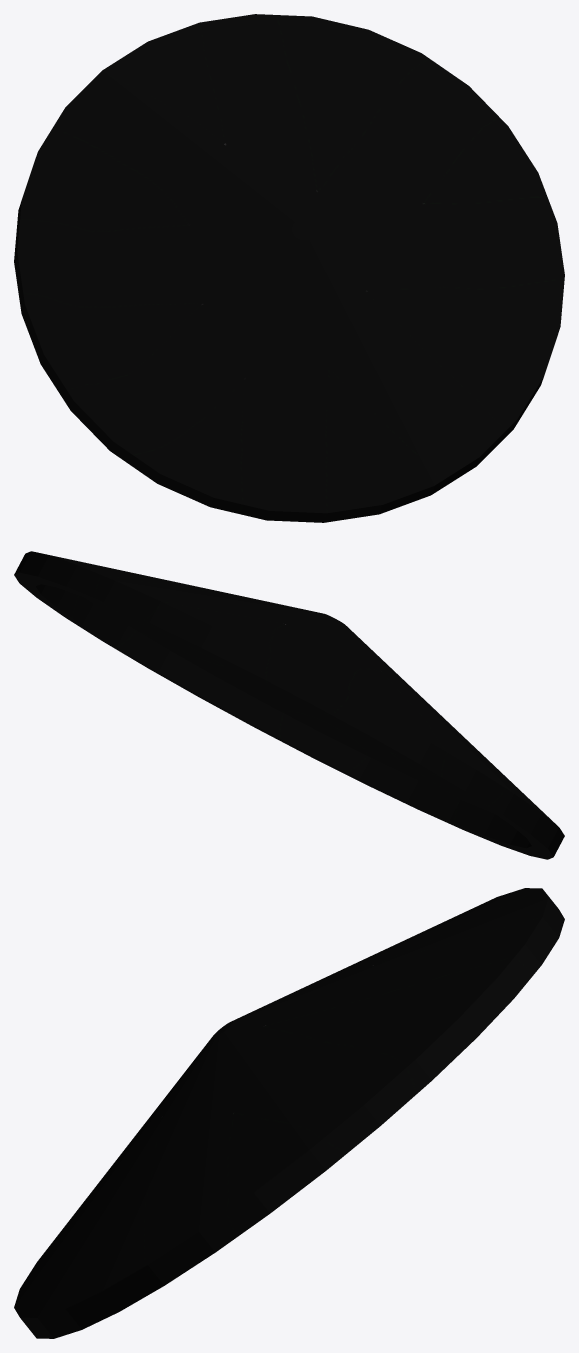
File: carousel-top.glb
The picture shows the model from 3 angles, top to bottom: view 1: azimuth 30°, elevation 25°; view 2: azimuth 150°, elevation 25°; view 3: azimuth 270°, elevation 25°; orthographic projection. The views are drawn at different scales.
Visible parts, largest first — view 1: node_id5; view 2: node_id5; view 3: node_id5.
Boxes of the visible parts, box(x1,y1,x2,y2) form: node_id5: box(14, 14, 564, 522); node_id5: box(14, 551, 564, 859); node_id5: box(14, 888, 564, 1338).
Size of the model in its own units: 0.4346 by 0.295 by 0.3565.
1 material, 1 textured.
